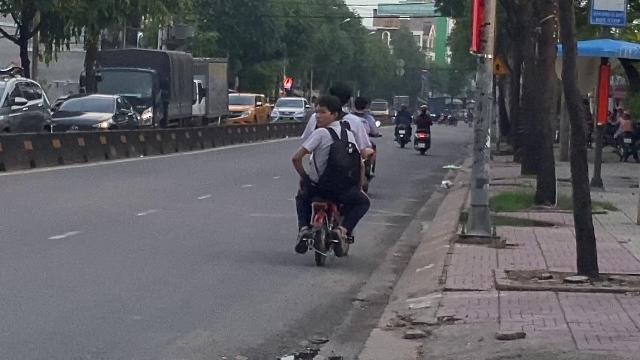motorcyclist: (288, 79, 378, 267)
nohelmet: (314, 94, 342, 124), (328, 82, 352, 108)
